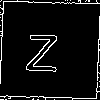Z: (25, 25, 60, 72)
